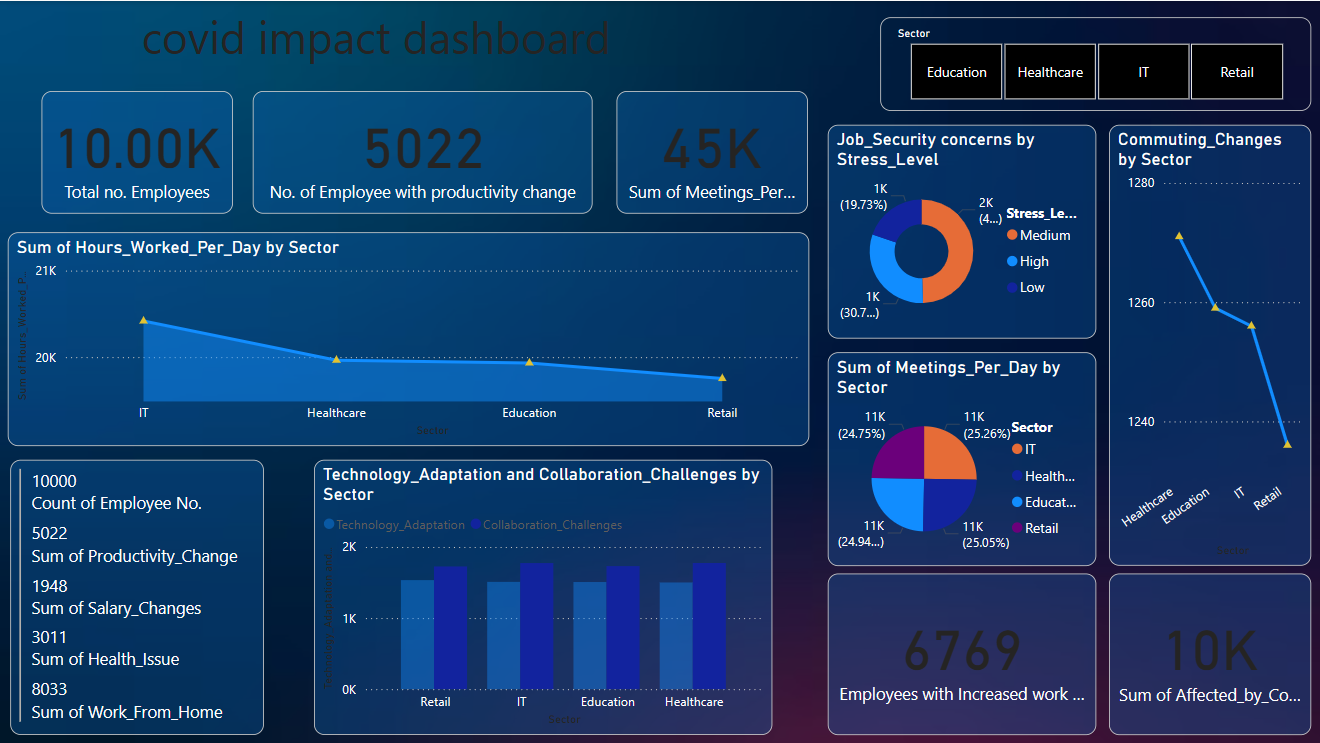

The page's visual inventory and layout, read from the dashboard file:
{"tool":"powerbi","page":{"name":"Management Board","canvas":[1280,720],"ordinal":1},"visuals":[{"type":"textbox","title":"COVID IMPACT DASHBOARD","box":[50,10.5,1094.2,76.7],"z":0},{"type":"card","fields":{"Values":["Sum(tblcoimpact.Meetings_Per_Day)"]},"box":[573.3,87.2,207,117.4],"z":1000},{"type":"card","fields":{"Values":["Sum(tblcoimpact.Productivity_Change)"]},"box":[238.4,87.2,322.1,117.4],"z":2000},{"type":"multiRowCard","fields":{"Values":["tblcoimpact.Employee No.","Sum(tblcoimpact.Productivity_Change)","Sum(tblcoimpact.Salary_Changes)","Sum(tblcoimpact.Health_Issue)","Sum(tblcoimpact.Work_From_Home)"]},"box":[23.3,441.9,254.7,265.1],"z":3000},{"type":"slicer","fields":{"Values":["tblemployedeets.Sector"]},"box":[799.9,15.7,466.9,103.8],"z":4000},{"type":"pieChart","fields":{"Category":["tblcoimpact.Sector"],"Y":["Sum(tblcoimpact.Meetings_Per_Day)"]},"box":[800,332.6,259.3,211.6],"z":5000},{"type":"donutChart","fields":{"Category":["tblcoimpact.Stress_Level"],"Y":["Sum(tblcoimpact.Job_Security)"]},"box":[800,119.8,259.3,205.8],"z":6000},{"type":"card","fields":{"Values":["CountNonNull(tblcoimpact.Employee No.)"]},"box":[23.3,87.2,202.3,118.6],"z":7000},{"type":"stackedAreaChart","fields":{"Y":["Sum(tblcoimpact.Hours_Worked_Per_Day)"],"Category":["tblcoimpact.Sector"]},"box":[23.3,223.3,758.1,205.8],"z":8000},{"type":"clusteredColumnChart","fields":{"Y":["Sum(tblcoimpact.Technology_Adaptation)","Sum(tblcoimpact.Team_Collaboration_Challenges)"],"Category":["tblcoimpact.Sector"]},"box":[294.2,441.9,487.2,265.1],"z":9000},{"type":"card","fields":{"Values":["Sum(tblcoimpact.Increased_Work_Hours)"]},"box":[799.9,552.5,259.4,155.6],"z":10000},{"type":"lineChart","fields":{"Category":["tblcoimpact.Sector"],"Y":["Sum(tblcoimpact.Commuting_Changes)"]},"box":[1070.9,119.8,195.3,425.6],"z":11000},{"type":"card","fields":{"Values":["Sum(tblcoimpact.Affected_by_Covid)"]},"box":[1071,553,195,156],"z":12000}]}

Visuals, with their boxes in screenshot pixels (x1, y1, x2, y2), scaled from the page's 1280x720 canvas onto the 1320x743 screenshot:
"COVID IMPACT DASHBOARD" textbox: <region>52, 11, 1180, 90</region>
card - Sum(tblcoimpact.Meetings_Per_Day): <region>591, 90, 805, 211</region>
card - Sum(tblcoimpact.Productivity_Change): <region>246, 90, 578, 211</region>
multiRowCard - tblcoimpact.Employee No. x Sum(tblcoimpact.Productivity_Change): <region>24, 456, 287, 730</region>
slicer - tblemployedeets.Sector: <region>825, 16, 1306, 123</region>
pieChart - tblcoimpact.Sector x Sum(tblcoimpact.Meetings_Per_Day): <region>825, 343, 1092, 562</region>
donutChart - tblcoimpact.Stress_Level x Sum(tblcoimpact.Job_Security): <region>825, 124, 1092, 336</region>
card - CountNonNull(tblcoimpact.Employee No.): <region>24, 90, 233, 212</region>
stackedAreaChart - Sum(tblcoimpact.Hours_Worked_Per_Day) x tblcoimpact.Sector: <region>24, 230, 806, 443</region>
clusteredColumnChart - Sum(tblcoimpact.Technology_Adaptation) x Sum(tblcoimpact.Team_Collaboration_Challenges): <region>303, 456, 806, 730</region>
card - Sum(tblcoimpact.Increased_Work_Hours): <region>825, 570, 1092, 731</region>
lineChart - tblcoimpact.Sector x Sum(tblcoimpact.Commuting_Changes): <region>1104, 124, 1306, 563</region>
card - Sum(tblcoimpact.Affected_by_Covid): <region>1104, 571, 1306, 732</region>
